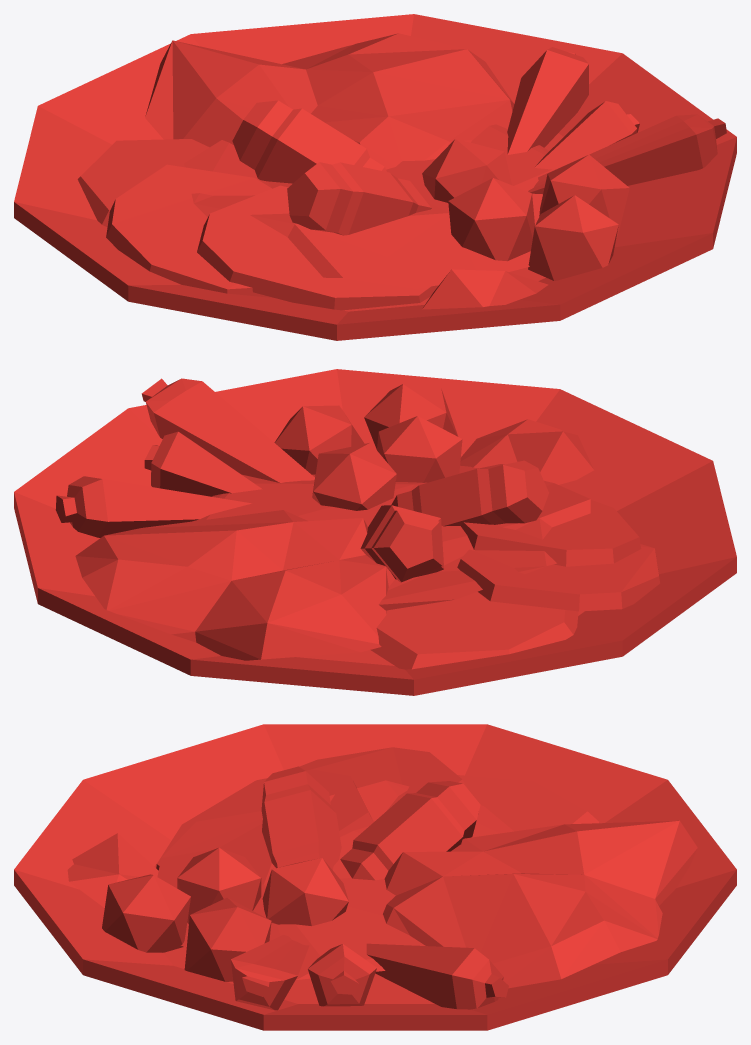
The model's file is SM_Plate_Dinner_English.fbx.
3 views of the same model, one above another, from view 1: azimuth 30°, elevation 25°; view 2: azimuth 150°, elevation 25°; view 3: azimuth 270°, elevation 25° (orthographic). The views are drawn at different scales.
Parts seen in each view (by area): view 1: plate-dinner-english; view 2: plate-dinner-english; view 3: plate-dinner-english.
Boxes of the visible parts, bbox=[...] form: plate-dinner-english: bbox=[14, 14, 736, 340]; plate-dinner-english: bbox=[14, 369, 736, 695]; plate-dinner-english: bbox=[14, 724, 736, 1030].
Bounding box in the file's own units: 0.2995 × 0.0504 × 0.315.
